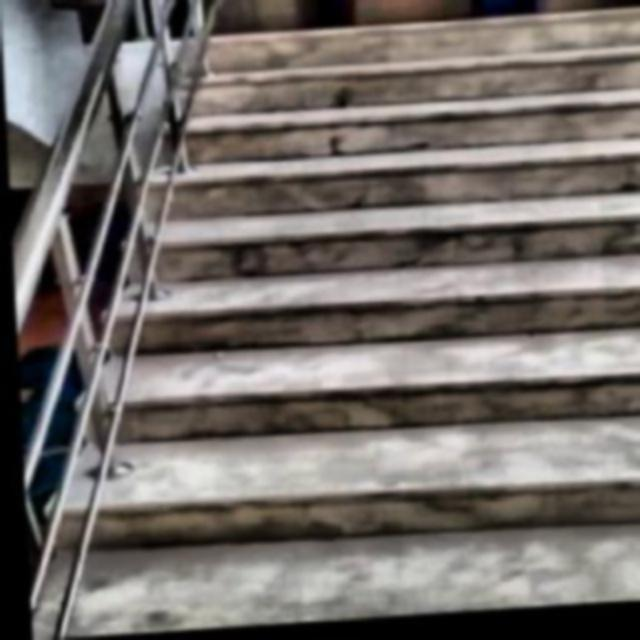stair: (61, 6, 638, 637)
